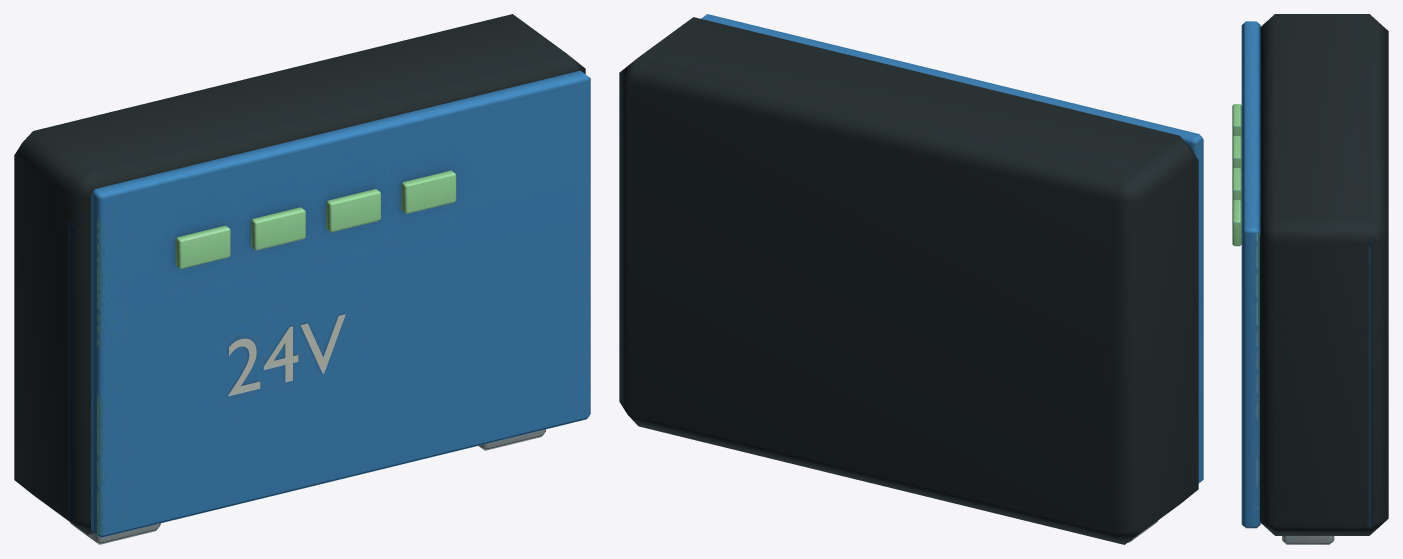
The model's file is battery_pack.obj.
The picture shows the model from 3 angles, left to right: view 1: azimuth 30°, elevation 25°; view 2: azimuth 150°, elevation 25°; view 3: azimuth 270°, elevation 25°; orthographic projection. The views are drawn at different scales.
Parts seen in each view (by area): view 1: battery_pack; view 2: battery_pack; view 3: battery_pack.
Boxes of the visible parts, <box> form: battery_pack: <box>14,14,590,544</box>; battery_pack: <box>619,14,1203,544</box>; battery_pack: <box>1232,14,1388,544</box>.
Size of the model in its own units: 0.11 by 0.078 by 0.033.
Materials: 3 (3 with a texture image).
